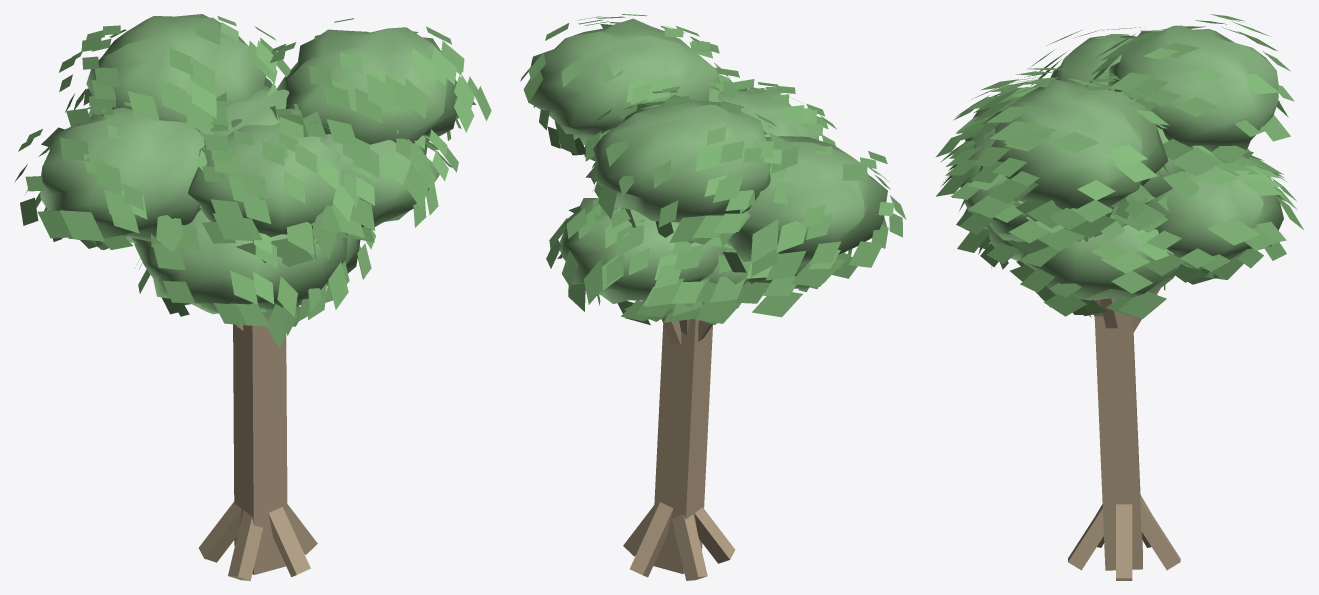
File: linden_young.glb
The picture shows the model from 3 angles, left to right: view 1: azimuth 30°, elevation 25°; view 2: azimuth 150°, elevation 25°; view 3: azimuth 270°, elevation 25°; orthographic projection. The views are drawn at different scales.
Visible parts, largest first — view 1: SourceMesh_00024, SourceMesh_00019, SourceMesh_00023, SourceMesh_00000, SourceMesh_00022, SourceMesh_00016, SourceMesh_00021, SourceMesh_00018, SourceMesh_00020, SourceMesh_00003, SourceMesh_00002, SourceMesh_00004; view 2: SourceMesh_00024, SourceMesh_00022, SourceMesh_00023, SourceMesh_00000, SourceMesh_00019, SourceMesh_00017, SourceMesh_00021, SourceMesh_00005, SourceMesh_00004, SourceMesh_00003, SourceMesh_00001, SourceMesh_00015; view 3: SourceMesh_00024, SourceMesh_00023, SourceMesh_00022, SourceMesh_00000, SourceMesh_00017, SourceMesh_00015, SourceMesh_00019, SourceMesh_00018, SourceMesh_00001, SourceMesh_00005, SourceMesh_00002, SourceMesh_00020.
Part boxes in pixels (x1,y1,x2,y2): SourceMesh_00024: (14,16,491,347); SourceMesh_00019: (40,107,204,242); SourceMesh_00023: (276,27,456,144); SourceMesh_00000: (233,313,287,574); SourceMesh_00022: (86,14,265,131); SourceMesh_00016: (132,209,347,314); SourceMesh_00021: (188,119,341,241); SourceMesh_00018: (320,134,439,229); SourceMesh_00020: (200,85,289,145); SourceMesh_00003: (228,510,262,580); SourceMesh_00002: (268,507,310,577); SourceMesh_00004: (199,501,241,562); SourceMesh_00024: (520,14,906,325); SourceMesh_00022: (593,95,770,222); SourceMesh_00023: (529,18,720,145); SourceMesh_00000: (653,318,712,573); SourceMesh_00019: (719,136,887,266); SourceMesh_00017: (559,198,727,303); SourceMesh_00021: (718,88,818,140); SourceMesh_00005: (630,502,673,577); SourceMesh_00004: (672,514,707,580); SourceMesh_00003: (694,507,735,563); SourceMesh_00001: (623,505,654,556); SourceMesh_00015: (699,260,748,308); SourceMesh_00024: (935,14,1303,318); SourceMesh_00023: (990,79,1168,209); SourceMesh_00022: (1108,25,1278,154); SourceMesh_00000: (1094,298,1142,570); SourceMesh_00017: (1146,163,1283,269); SourceMesh_00015: (1019,225,1179,300); SourceMesh_00019: (1050,36,1136,89); SourceMesh_00018: (960,134,1038,241); SourceMesh_00001: (1116,504,1132,580); SourceMesh_00005: (1140,496,1180,570); SourceMesh_00002: (1068,505,1103,570); SourceMesh_00020: (1110,89,1185,203).
Bounding box in the file's own units: 2.56 × 3.13 × 2.06.
